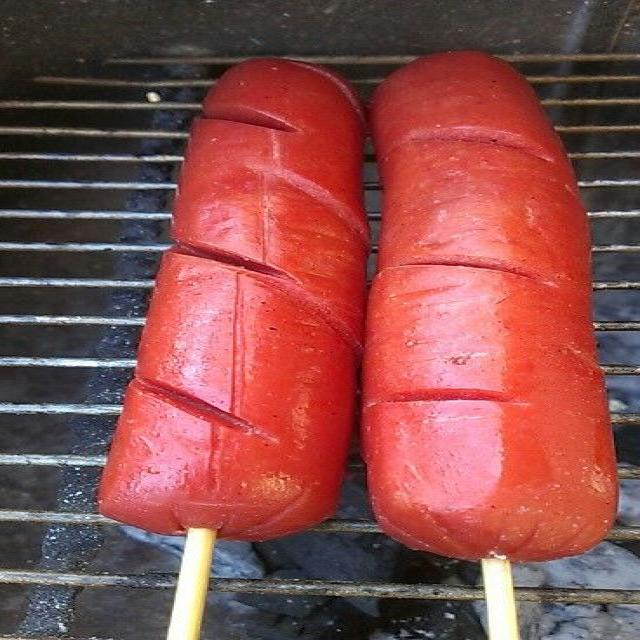sausage: (100, 59, 368, 539), (364, 52, 615, 560)
